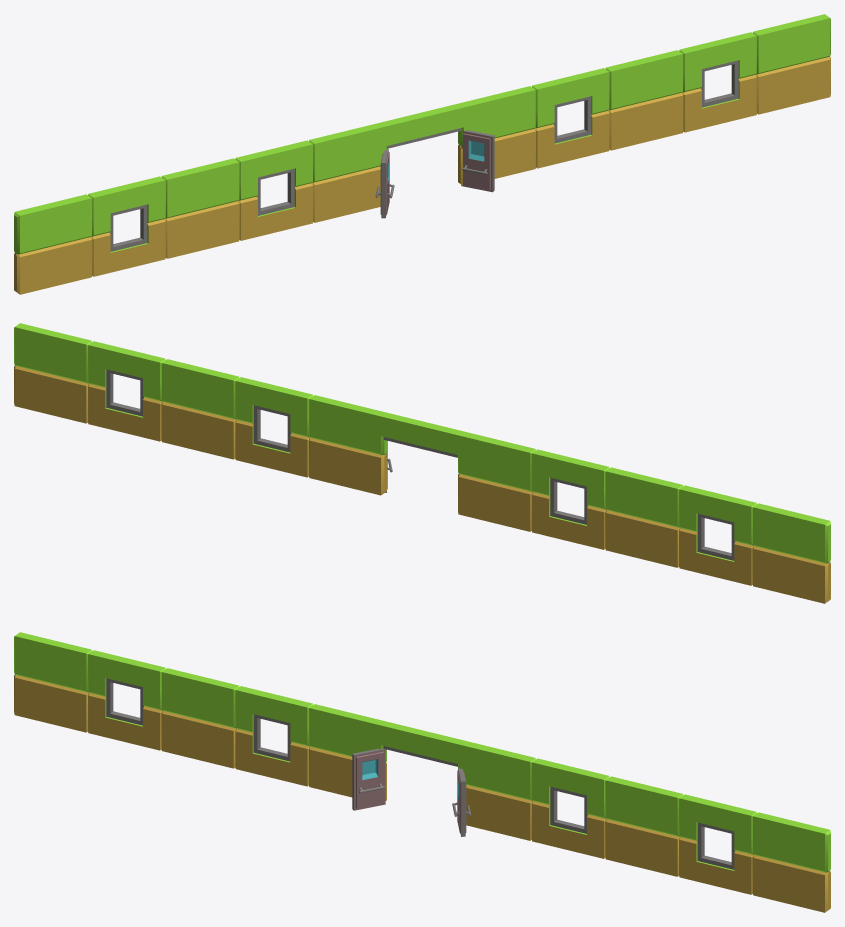
File: DUVARLAR.fbx
3 renders of one model, top to bottom at view 1: azimuth 30°, elevation 25°; view 2: azimuth 150°, elevation 25°; view 3: azimuth 330°, elevation 25°, orthographic.
Parts seen in each view (by area): view 1: DUVAR.008, DUVAR.005, DUVAR.010, DUVAR.007, DUVAR.001, CAM, CAM.003, CAM.001, CAM.002, DUVAR.003, KAPI DUVAR, KAPI; view 2: DUVAR.008, DUVAR.005, DUVAR.010, DUVAR.007, CAM, CAM.003, CAM.001, CAM.002, DUVAR.003, KAPI DUVAR, DUVAR.001; view 3: DUVAR.007, DUVAR.010, DUVAR.005, DUVAR.008, DUVAR.003, CAM.001, CAM.002, CAM, CAM.003, DUVAR.001, KAPI DUVAR, KAPI.
Part boxes in pixels (x1,y1,x2,y2): DUVAR.008: (14, 194, 92, 294); DUVAR.005: (605, 50, 683, 150); DUVAR.010: (161, 158, 239, 258); DUVAR.007: (753, 14, 830, 114); DUVAR.001: (309, 123, 386, 222); CAM: (235, 140, 313, 240); CAM.003: (679, 32, 756, 132); CAM.001: (532, 68, 609, 168); CAM.002: (88, 176, 165, 276); DUVAR.003: (458, 86, 535, 185); KAPI DUVAR: (358, 97, 490, 180); KAPI: (375, 130, 494, 218); DUVAR.008: (752, 503, 830, 603); DUVAR.005: (161, 359, 239, 459); DUVAR.010: (605, 467, 683, 567); DUVAR.007: (14, 323, 91, 423); CAM: (531, 449, 609, 549); CAM.003: (88, 341, 165, 441); CAM.001: (235, 377, 312, 477); CAM.002: (679, 485, 756, 585); DUVAR.003: (309, 395, 386, 495); KAPI DUVAR: (354, 410, 487, 520); DUVAR.001: (458, 431, 535, 531); DUVAR.007: (752, 812, 830, 912); DUVAR.010: (161, 668, 239, 768); DUVAR.005: (605, 776, 683, 876); DUVAR.008: (14, 632, 91, 732); DUVAR.003: (458, 740, 535, 840); CAM.001: (531, 758, 609, 858); CAM.002: (88, 650, 165, 750); CAM: (235, 686, 312, 786); CAM.003: (679, 794, 756, 894); DUVAR.001: (309, 704, 386, 800); KAPI DUVAR: (360, 715, 485, 819); KAPI: (352, 748, 471, 836).
Size of the model in its own units: 4310 by 400 by 172.
